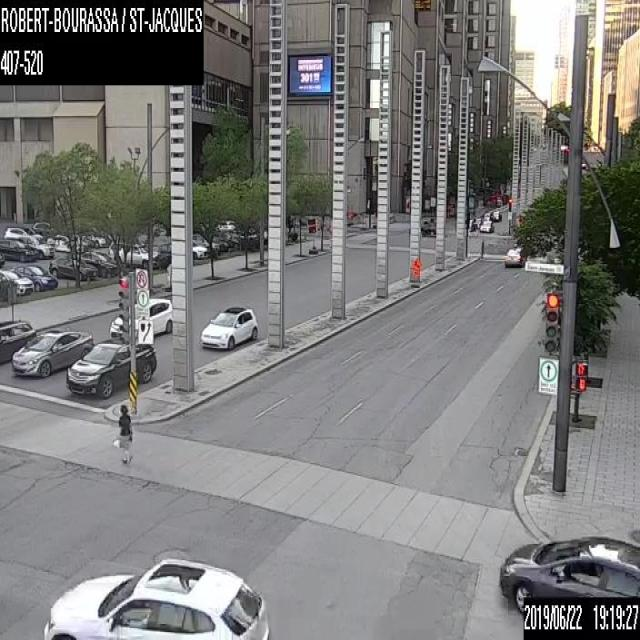construction: (412, 256, 420, 285)
pedestrian: (112, 404, 131, 463)
vehicle: (42, 556, 269, 639), (498, 532, 639, 613), (66, 338, 156, 396), (10, 328, 94, 376), (109, 296, 172, 339), (198, 304, 258, 349), (4, 225, 55, 258), (0, 318, 36, 364), (108, 241, 161, 268), (13, 264, 57, 291), (50, 255, 98, 279), (78, 252, 120, 276), (0, 238, 37, 262), (0, 269, 34, 295), (46, 232, 85, 252), (502, 247, 524, 265), (86, 231, 112, 246), (33, 220, 55, 234), (191, 239, 207, 258), (23, 225, 43, 239), (419, 220, 436, 235), (479, 219, 492, 232), (467, 217, 477, 231), (490, 209, 501, 220), (482, 210, 492, 222)
